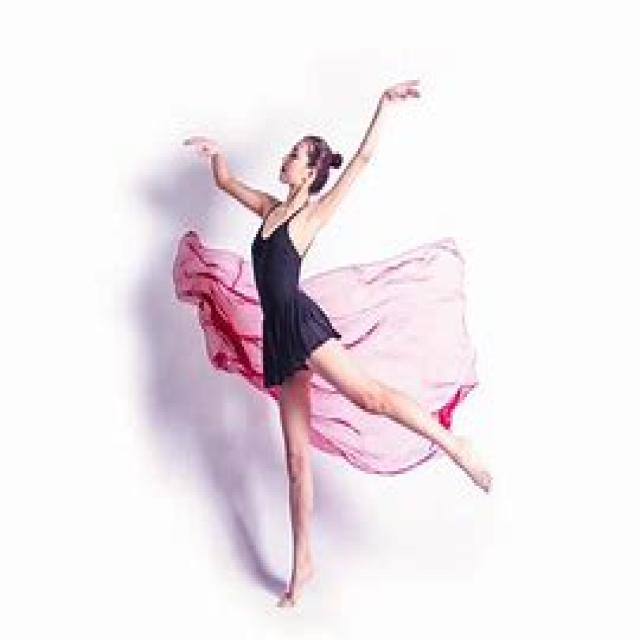stand: (238, 115, 400, 613)
